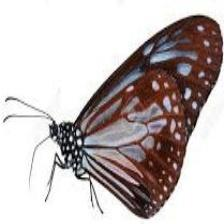butterfly: (50, 16, 224, 218)
